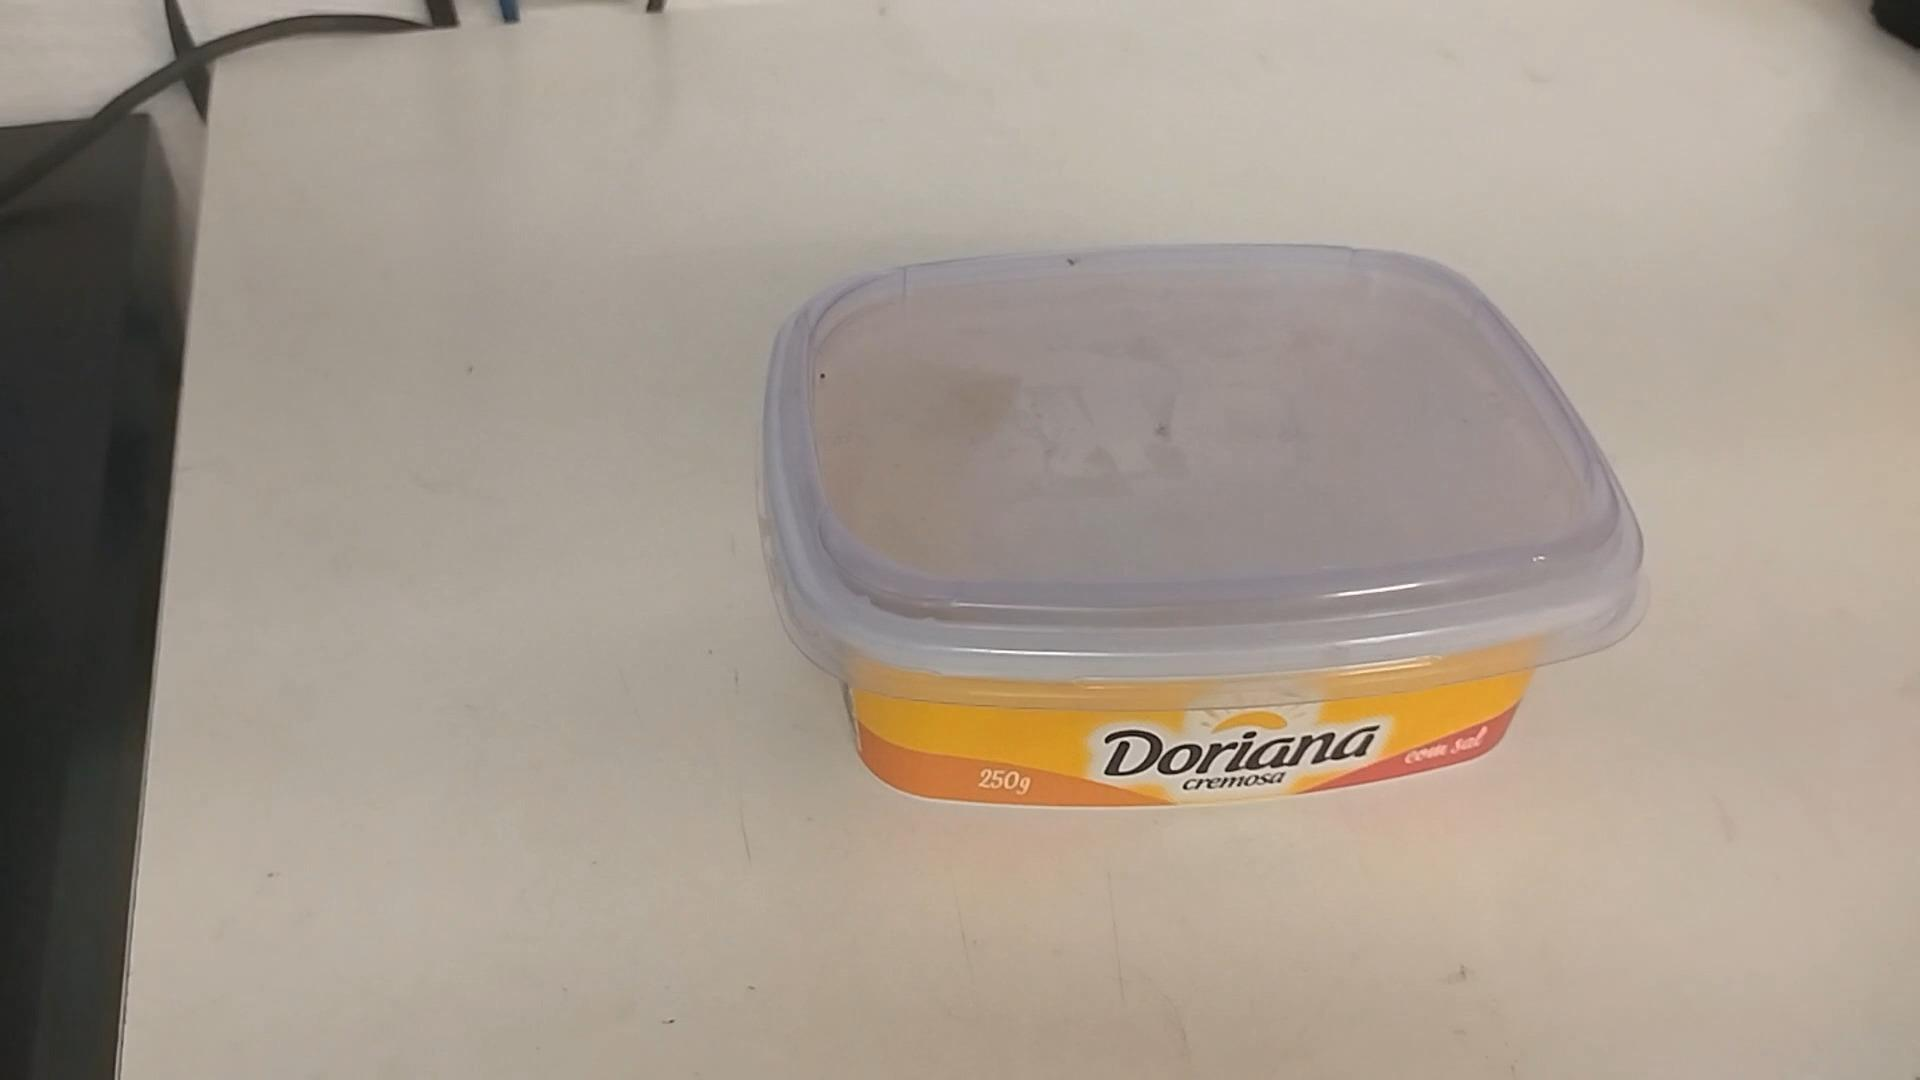butter: (750, 236, 1651, 811)
